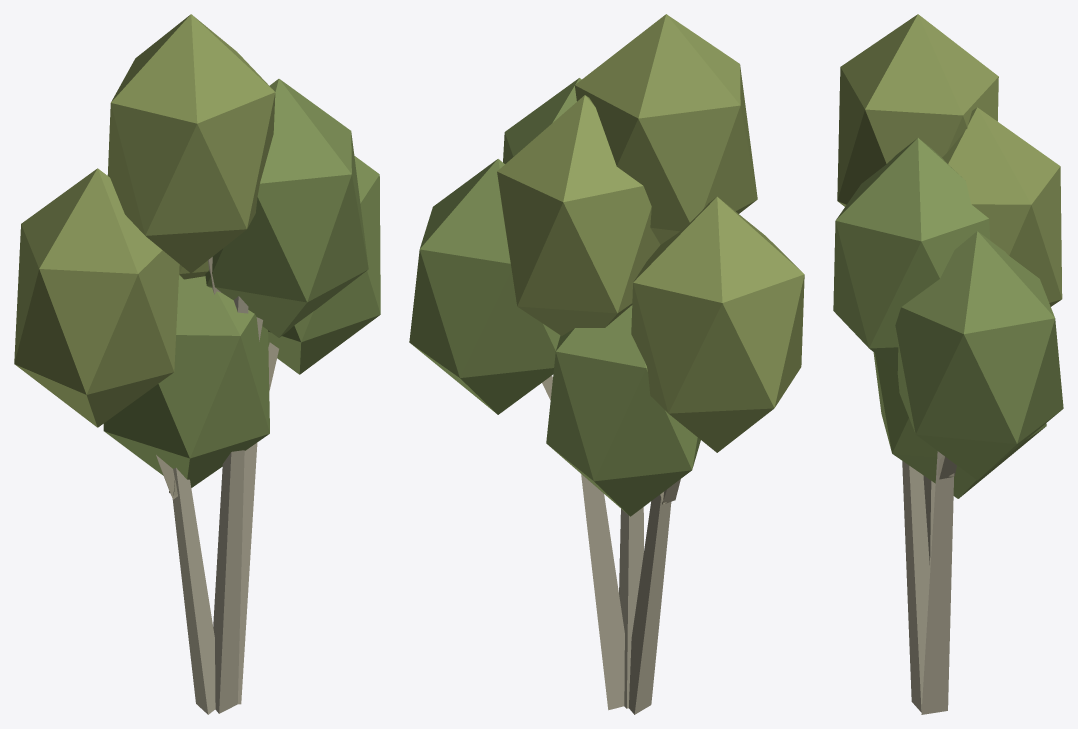
The model's file is birch_clump.glb.
3 views of the same model, side by side, from view 1: azimuth 30°, elevation 25°; view 2: azimuth 150°, elevation 25°; view 3: azimuth 270°, elevation 25° (orthographic). The views are drawn at different scales.
Parts seen in each view (by area): view 1: birch_clump; view 2: birch_clump; view 3: birch_clump.
Boxes of the visible parts, bbox=[...] form: birch_clump: bbox=[14, 14, 380, 714]; birch_clump: bbox=[409, 14, 804, 714]; birch_clump: bbox=[833, 14, 1063, 714].
Bounding box in the file's own units: 1.88 × 3.52 × 1.09.
